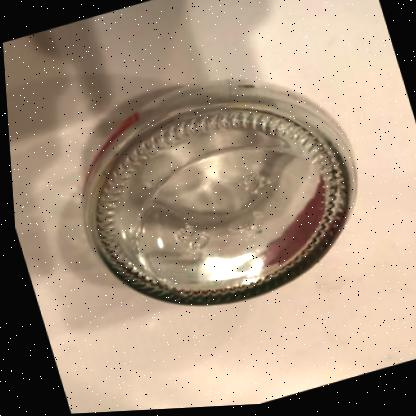Glass: (80, 82, 353, 307)
